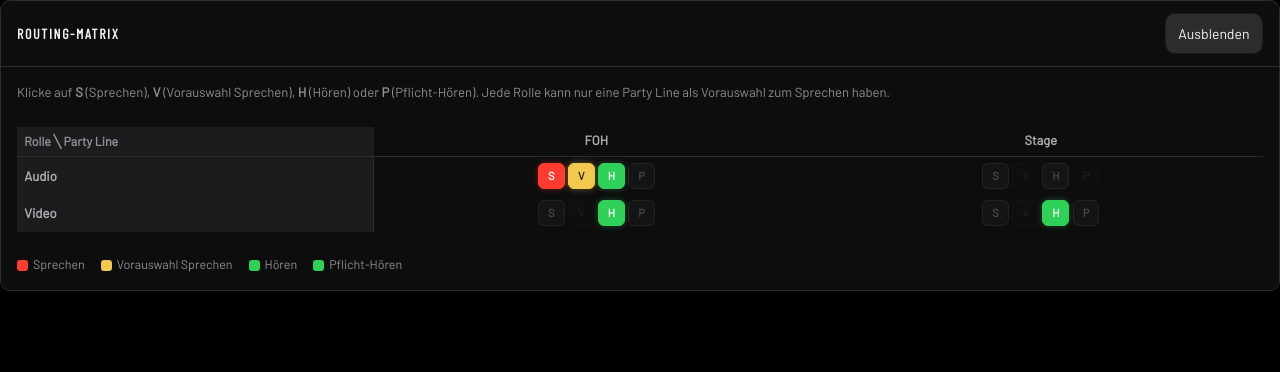
Test: AdminRoutingMatrixCard › allows only one Default Talk party line per role
Click the button named "Vorauswahl Sprechen Audio → FOH: an" at (581, 176), box [568,162,595,189]
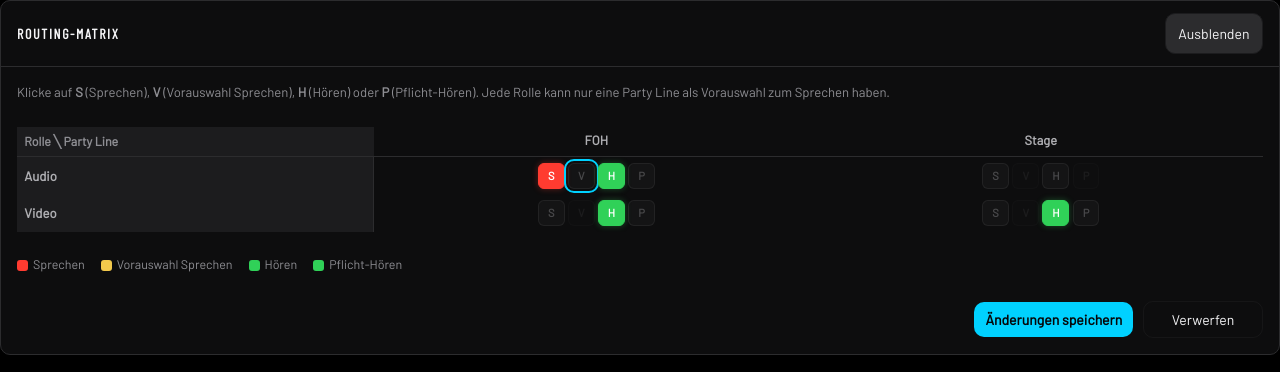
Click the button named "Sprechen Audio → Stage: aus" at (996, 176), box [982,162,1009,189]
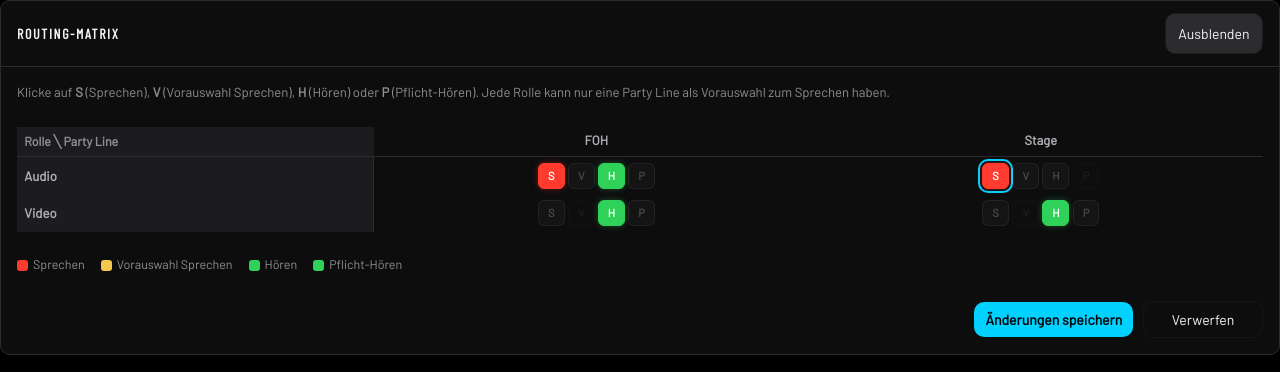
Click the button named "Vorauswahl Sprechen Audio → Stage: aus" at (1026, 176), box [1012,162,1039,189]
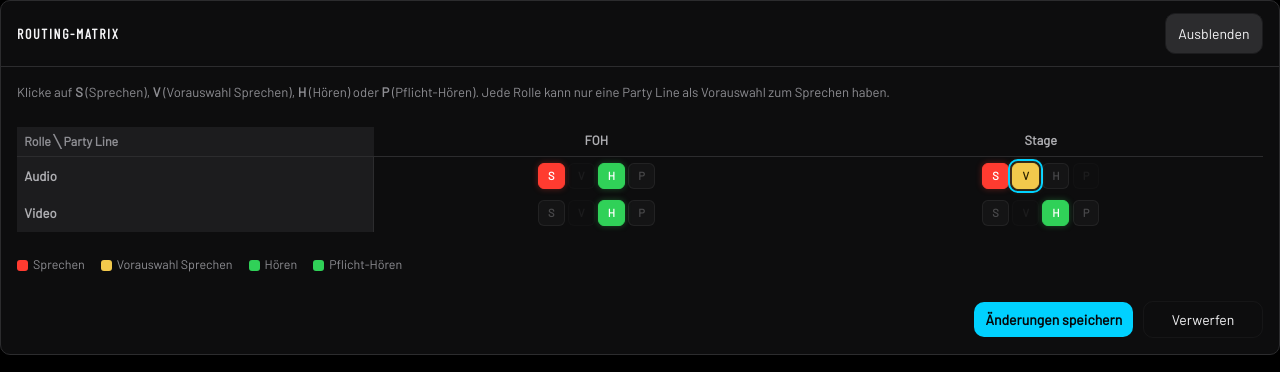
Expected: the button named "Vorauswahl Sprechen Audio → FOH: aus" is disabled, [568,162,595,189]
Expected: the button named "Vorauswahl Sprechen Audio → Stage: an" has class "active", [1012,162,1039,189]
